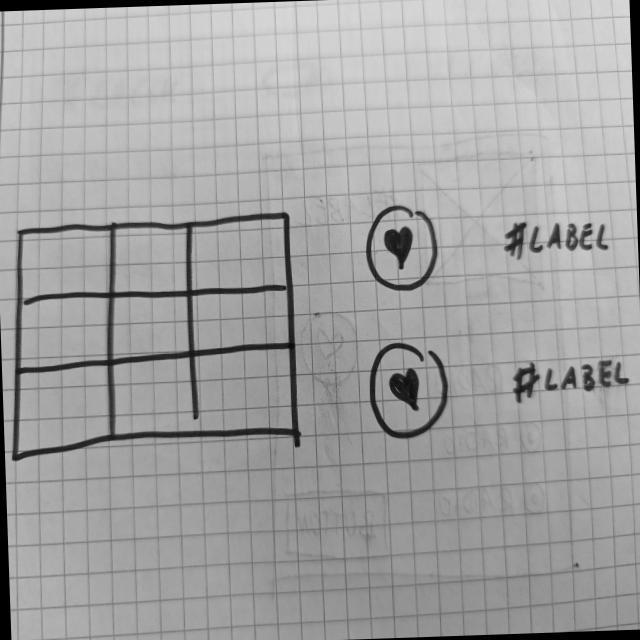icon-button: (367, 337, 455, 444), (362, 200, 444, 294)
label: (508, 356, 633, 405), (501, 215, 616, 265)
table: (2, 208, 305, 467)
